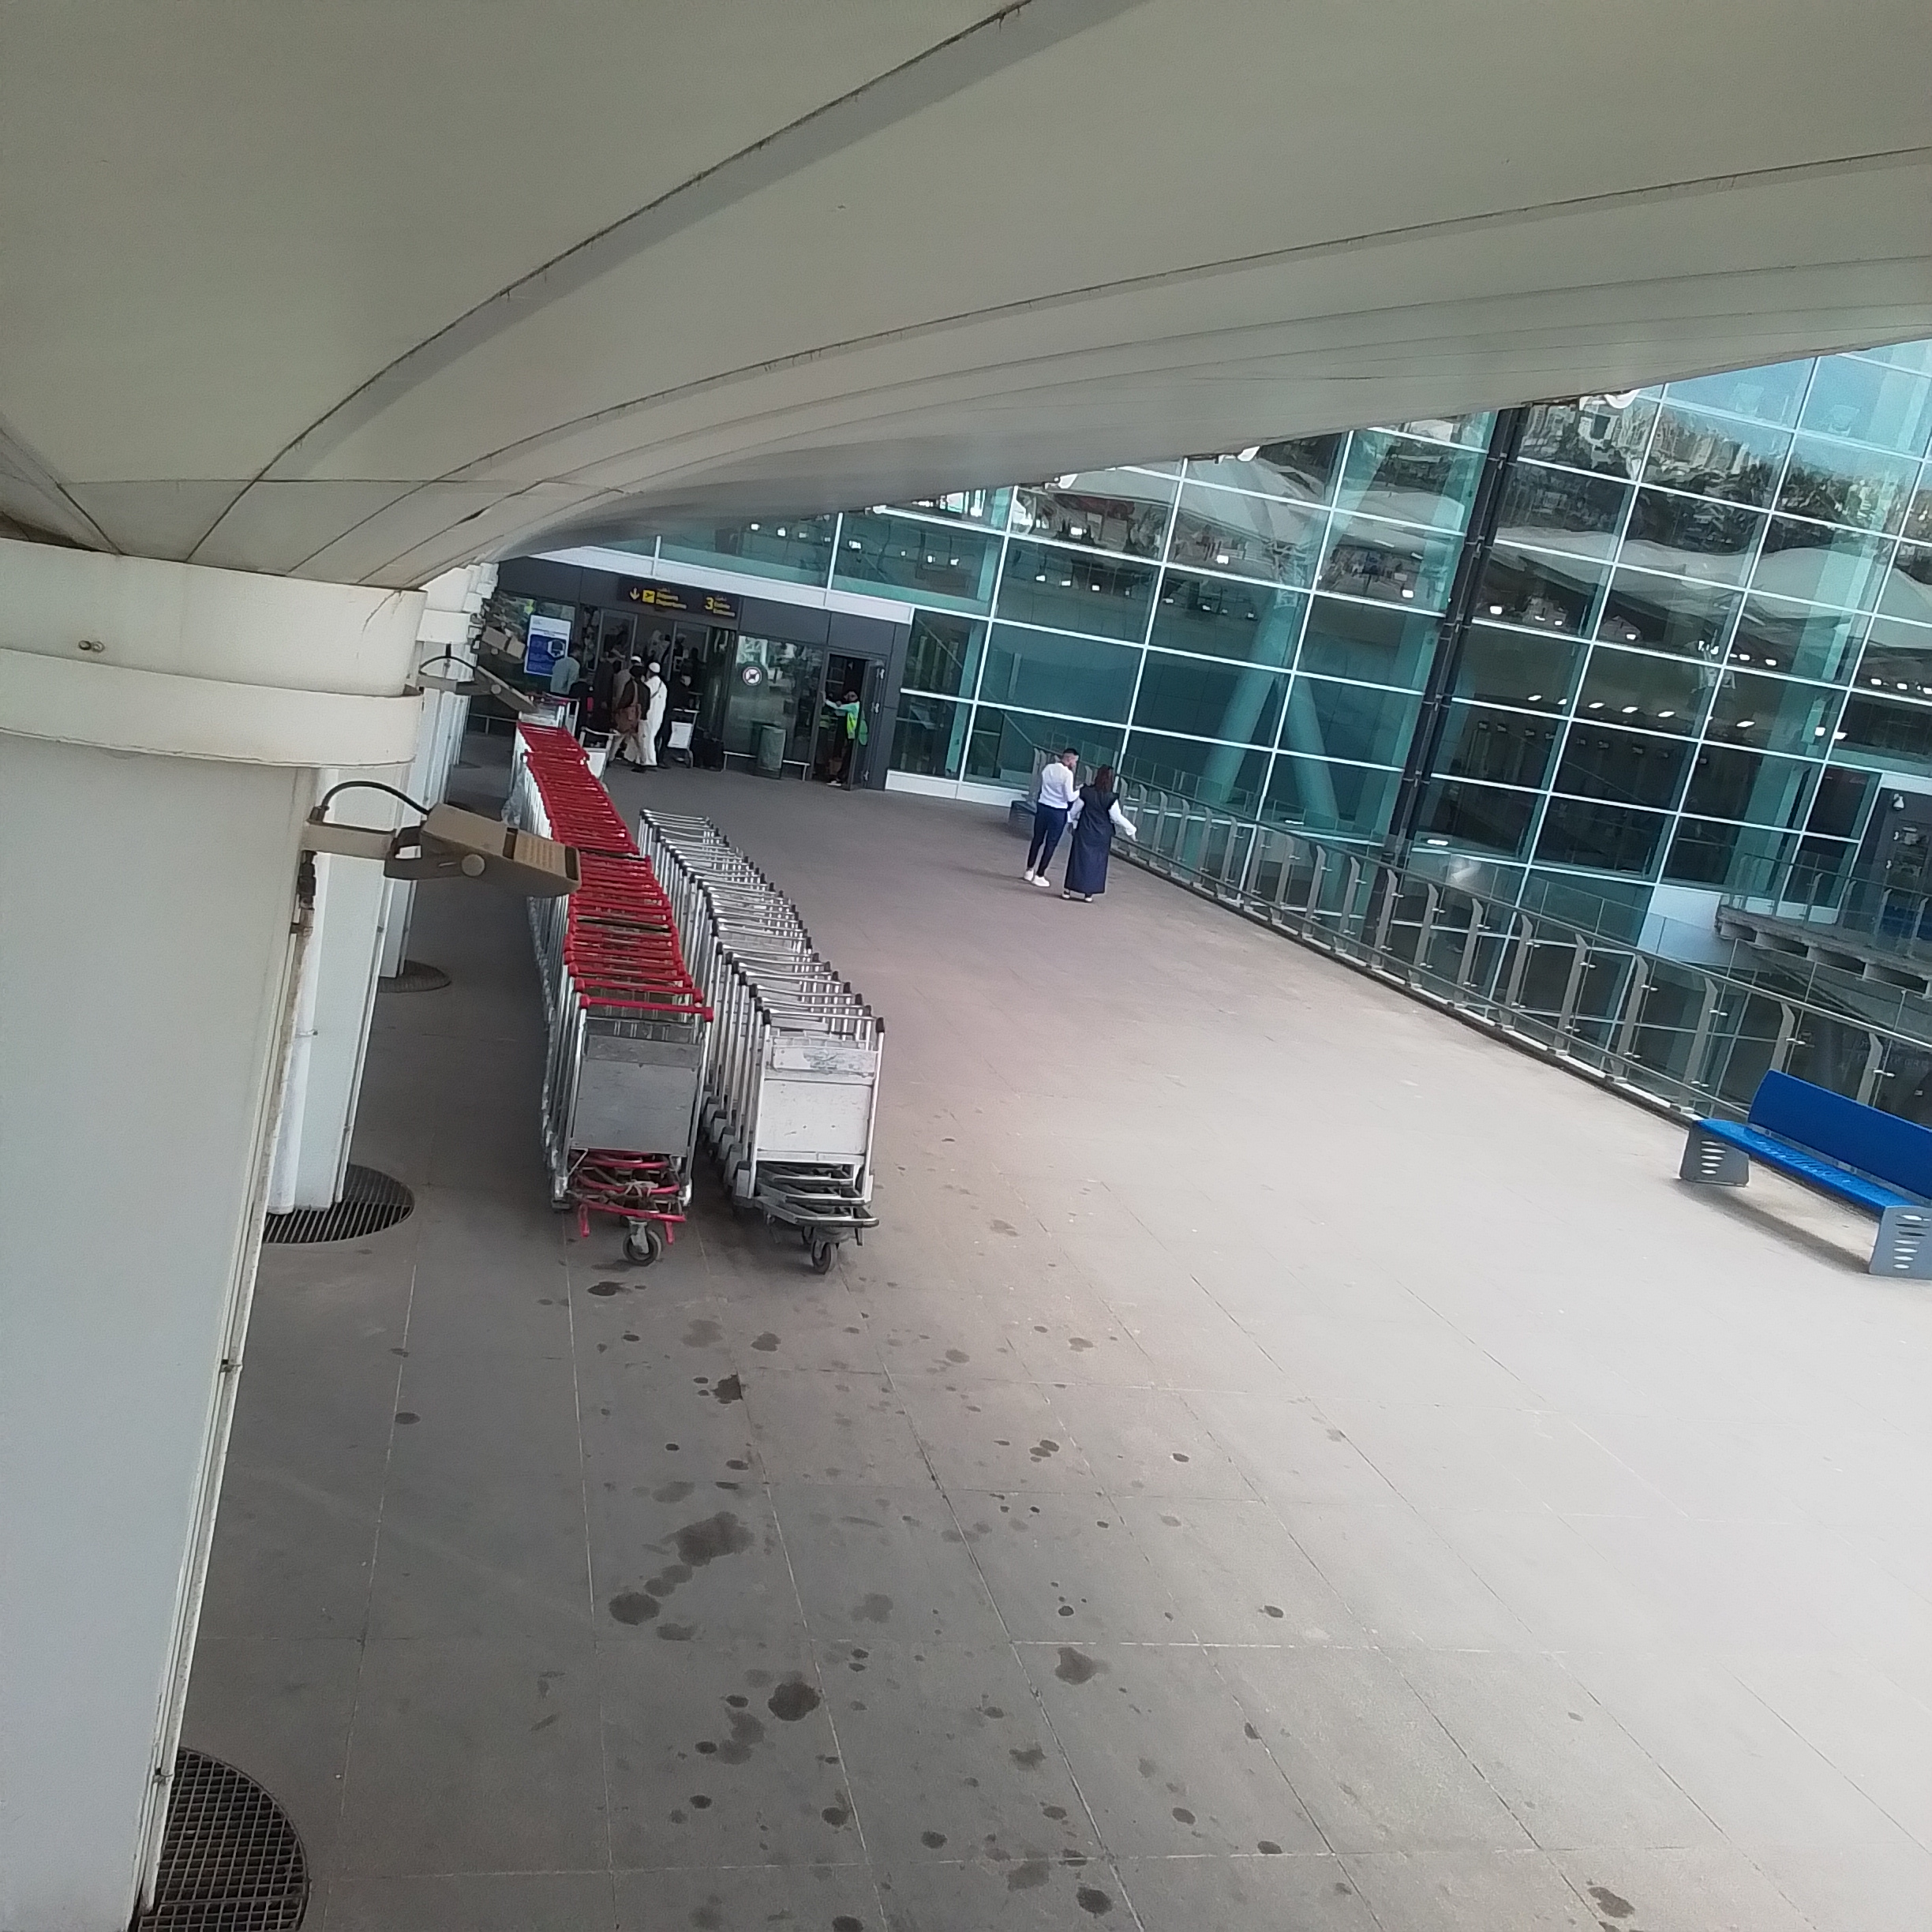airport-trolley: (754, 1003, 892, 1263), (568, 991, 697, 1260)
